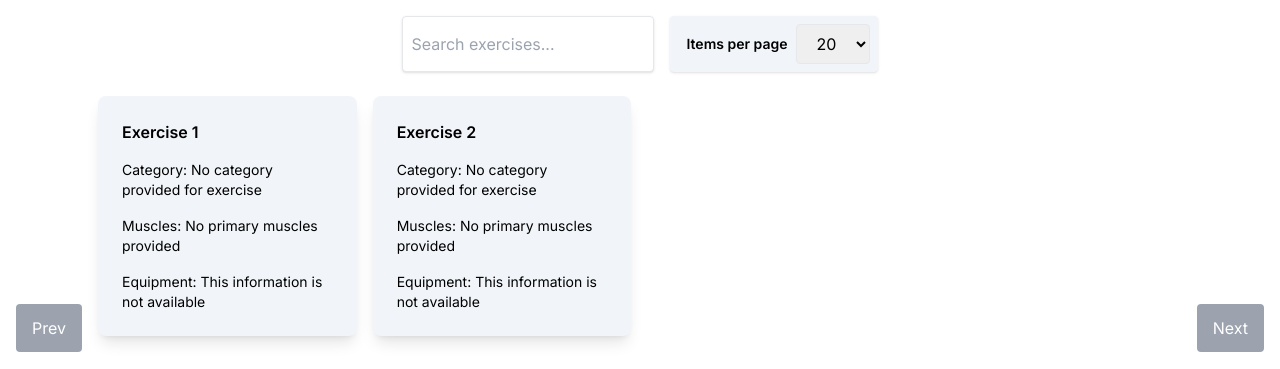
ExerciseCarousel › filters exercises based on search query
In the field with placeholder "Search exercises...": (528, 44) [402,16,654,72], type "Exercise 1"
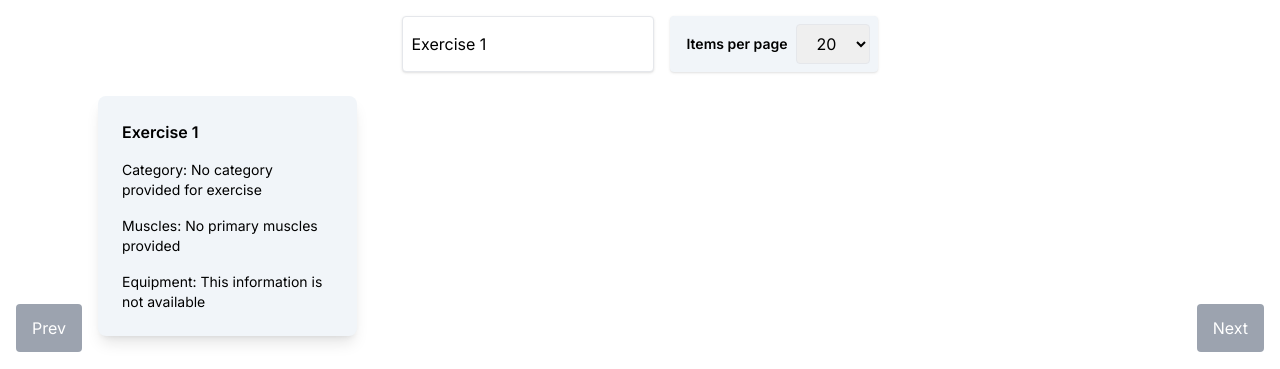
Expected: the heading "Exercise 1" is shown, [122,122,198,142]
Expected: the heading "Exercise 2" is gone
